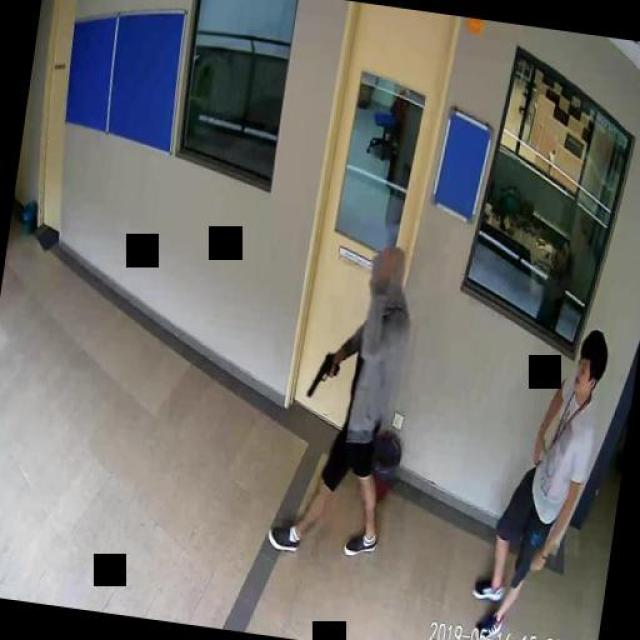gun: (306, 348, 340, 398)
